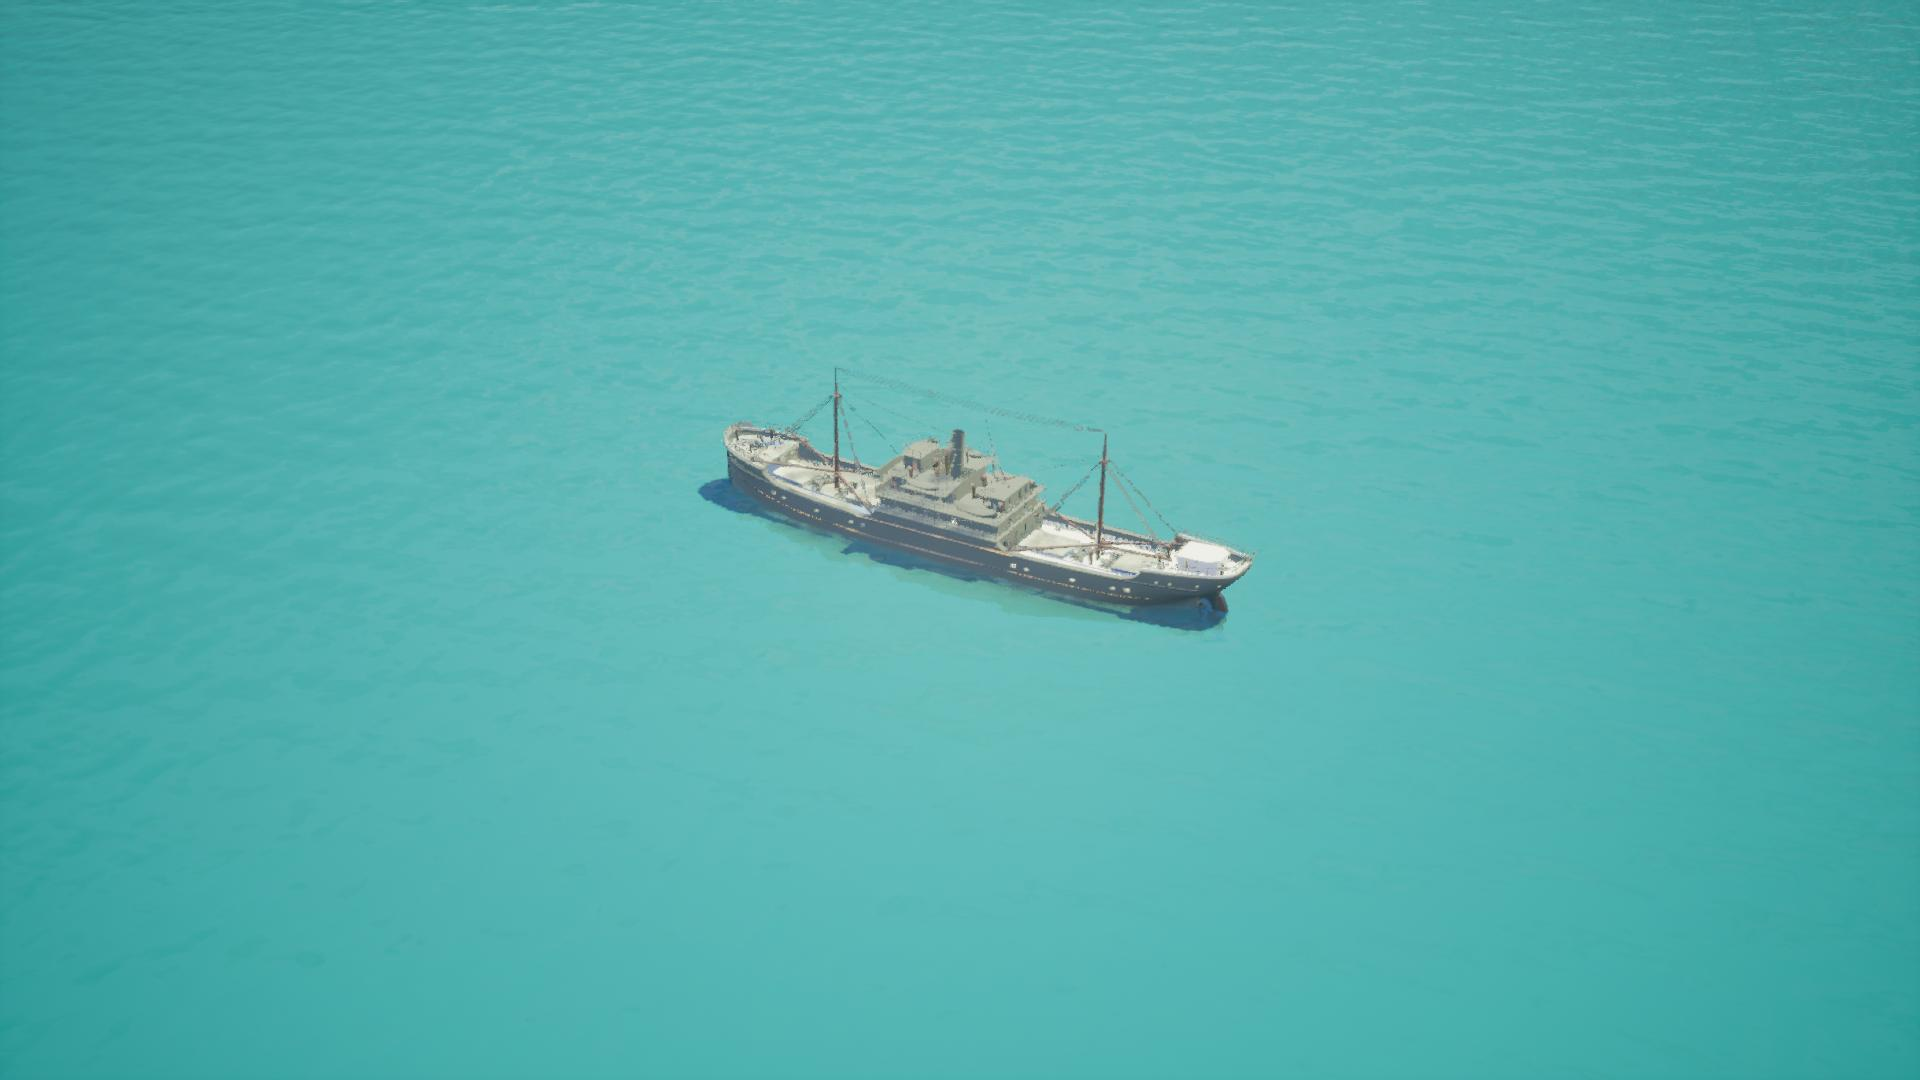Fishing Boat: (713, 402, 1247, 630)
